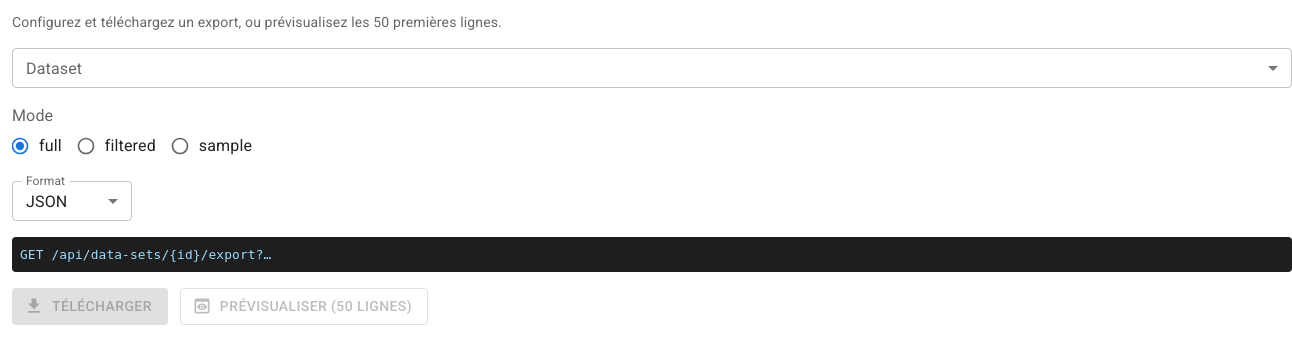
it: ExtractionTab › shows built URL with full mode after selecting dataset
The image size is (1292, 345).
Press the mouse on the dropdown named "dataset" at (652, 68), box [12,48,1291,88]
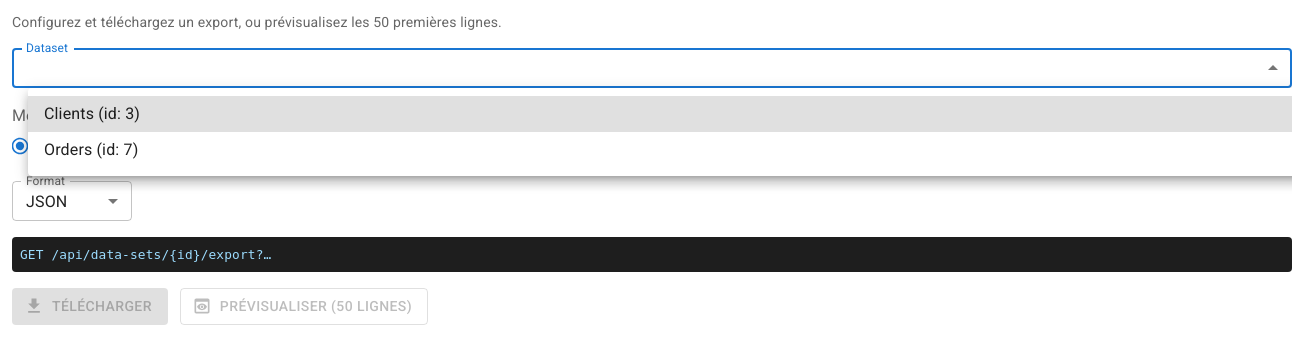
Click the option "Clients (id: 3)" at (69, 114), box [28,96,1291,132]
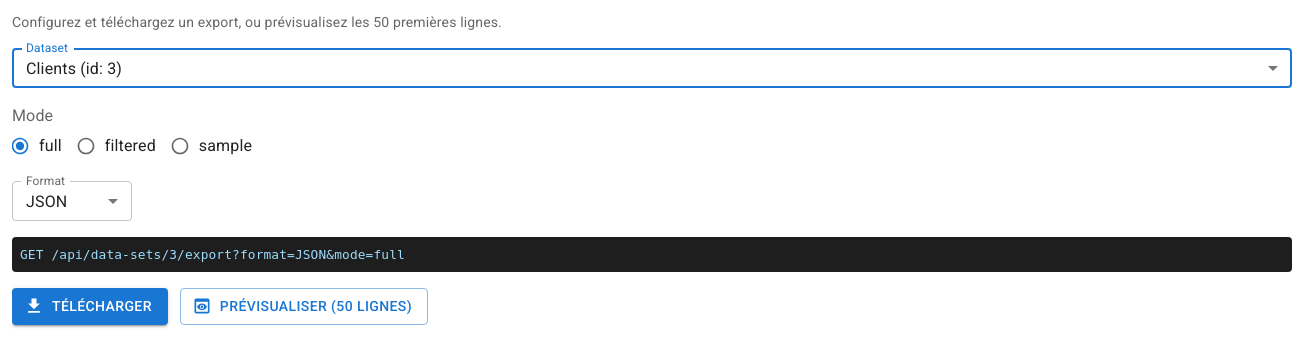
Expected: the text "GET /api/data-sets/3/export?format=JSON&mode=full" is shown, [12,237,1291,272]
